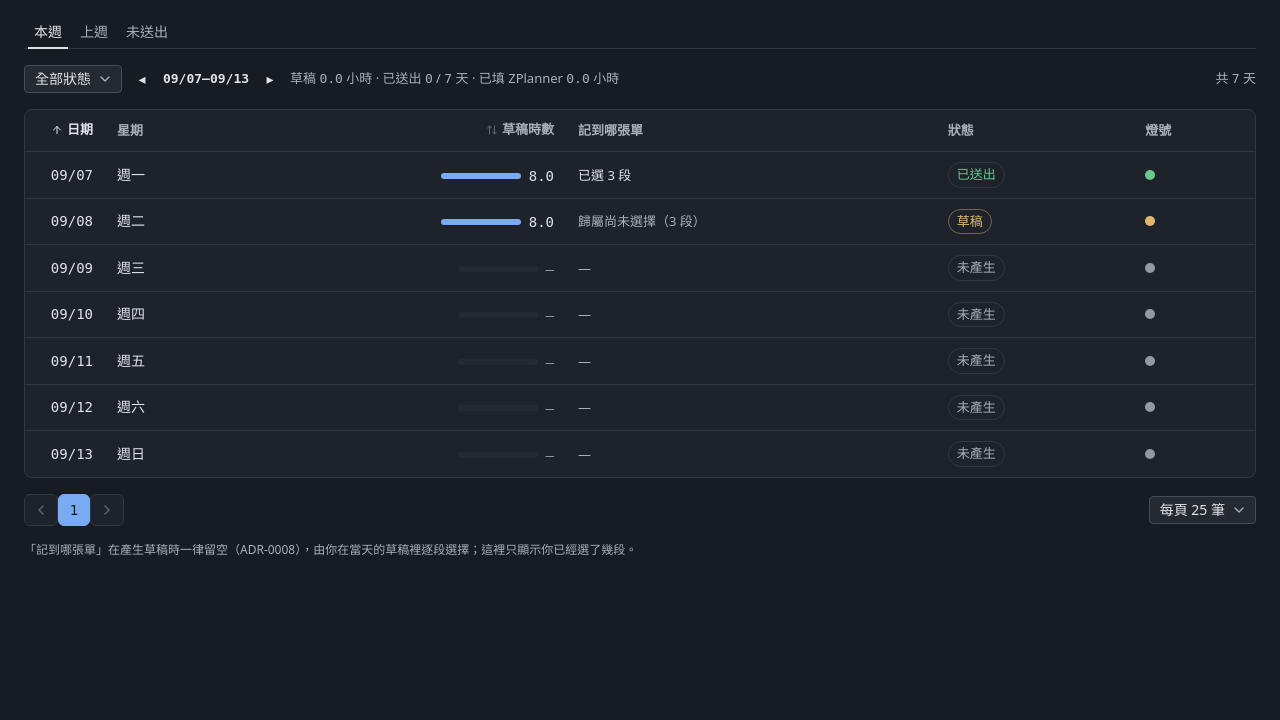
tabs › 未送出：本週＋上週裡有草稿但沒送完的天；範圍寫在畫面上
Click the tab "未送出" at (147, 32), box 119,20 -> 175,44
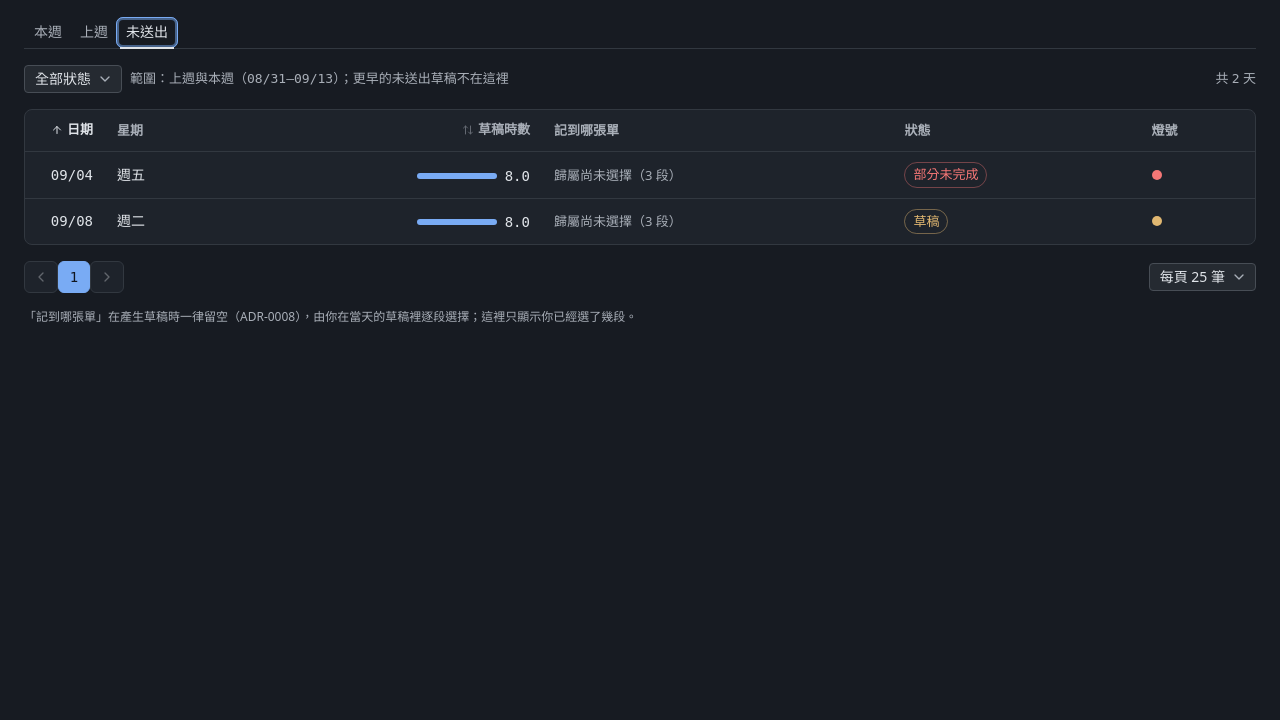
Expected: the text "09/08" is shown, 25,198 -> 105,244
Now the text "09/04" is shown, box 25,152 -> 105,198
Now the text "範圍：上週與本週（08/31–09/13）；更早的未送出草稿不在這裡" is shown, box 130,69 -> 509,89
